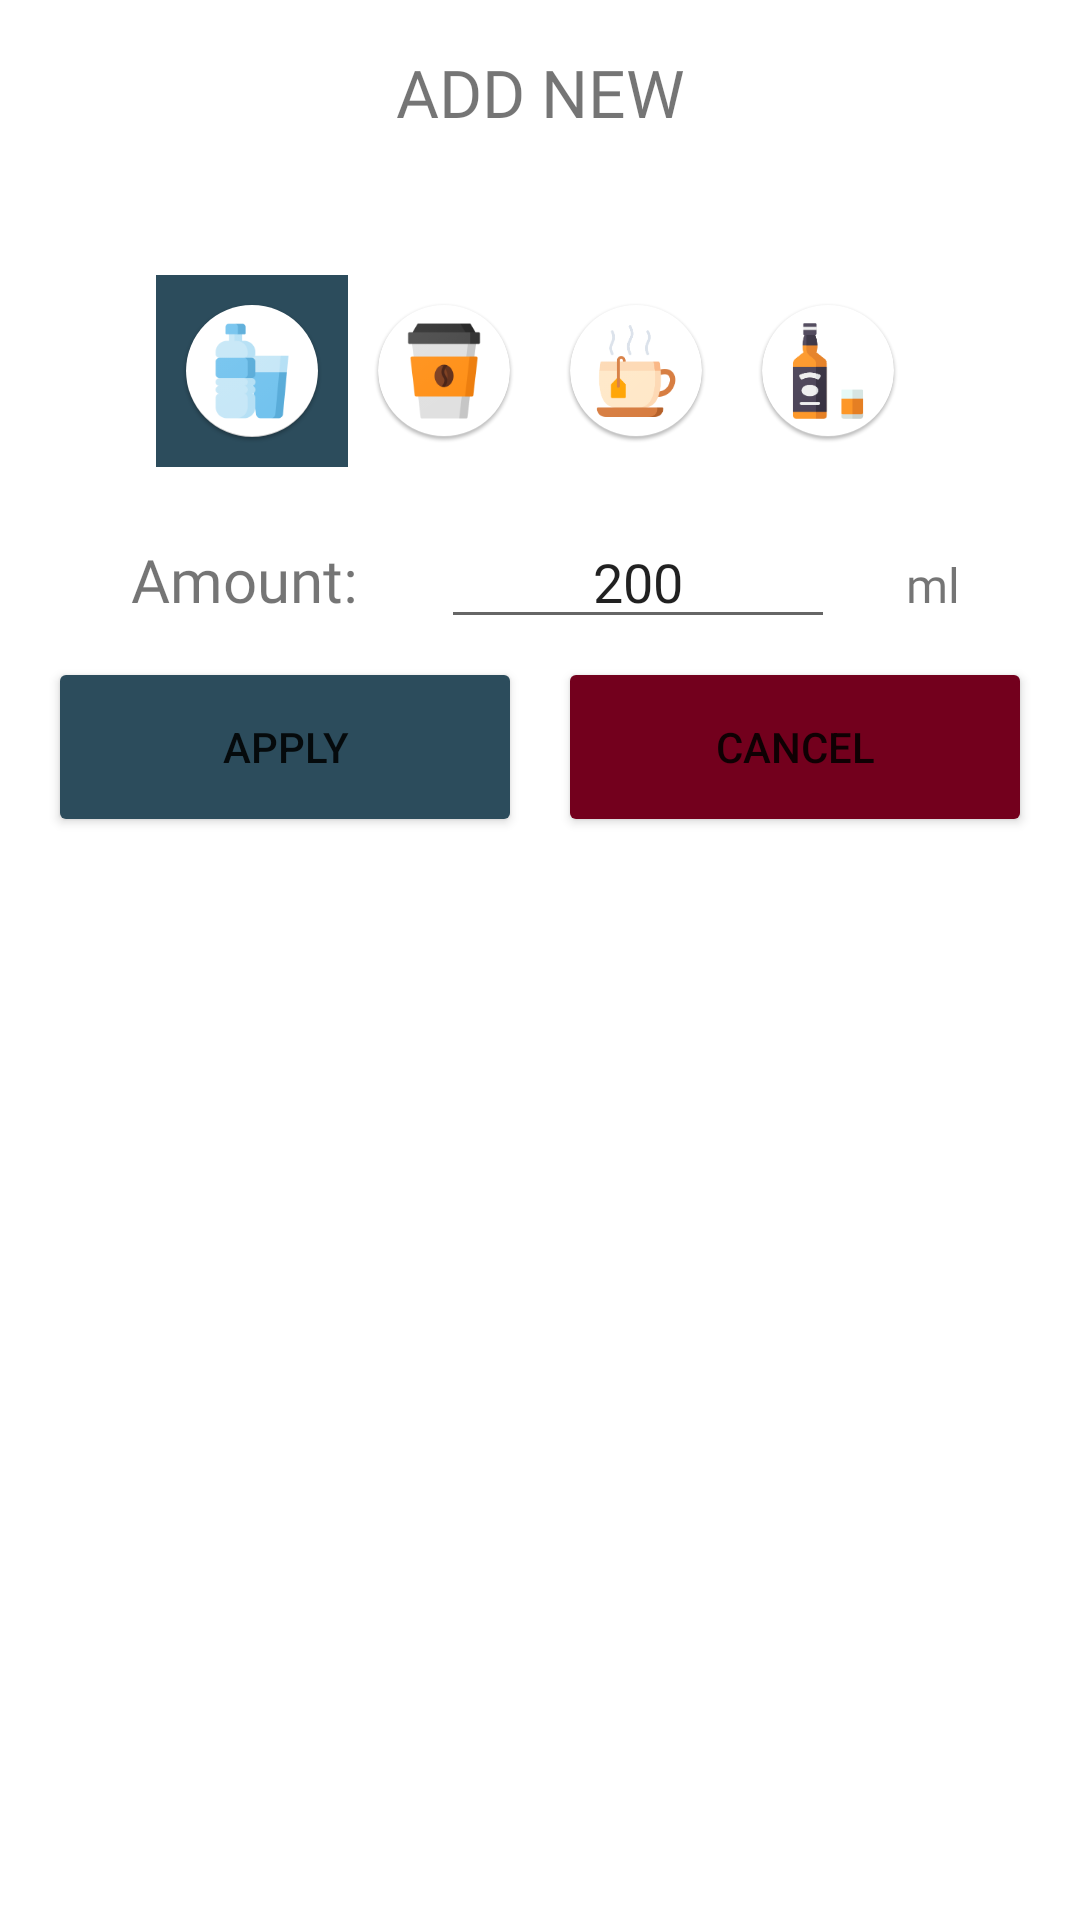

Named icons in this screenshot (1080×1920) and their centers, [x,y]:
Alcohol: [828,381]
Coffee: [444,381]
Tea: [636,382]
Water: [252,371]
